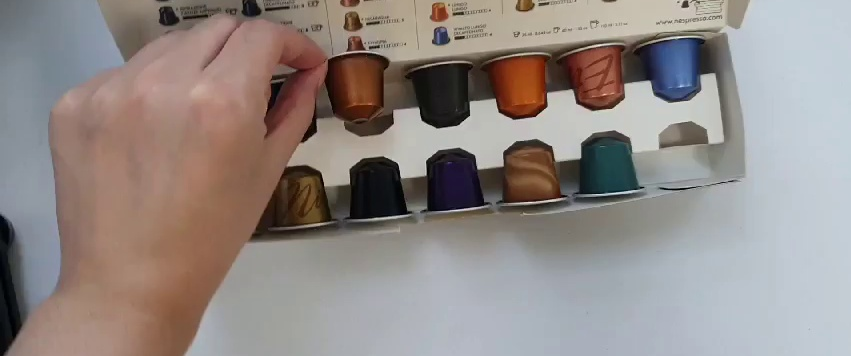capsule_3: (319, 52, 391, 124)
